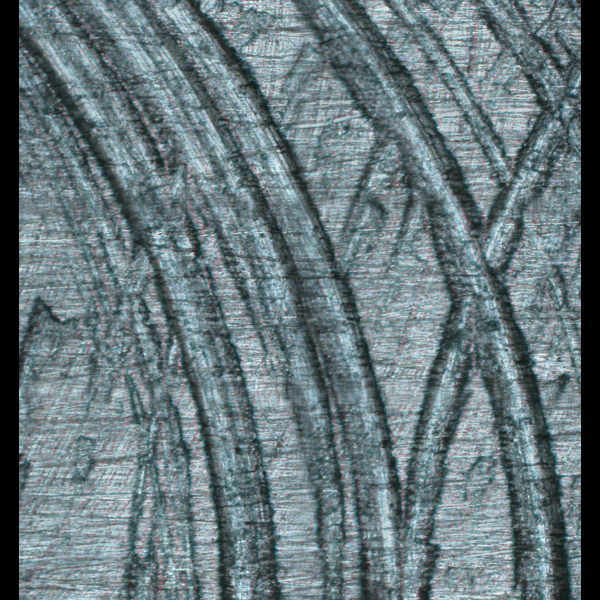d: (19, 2, 576, 600)
